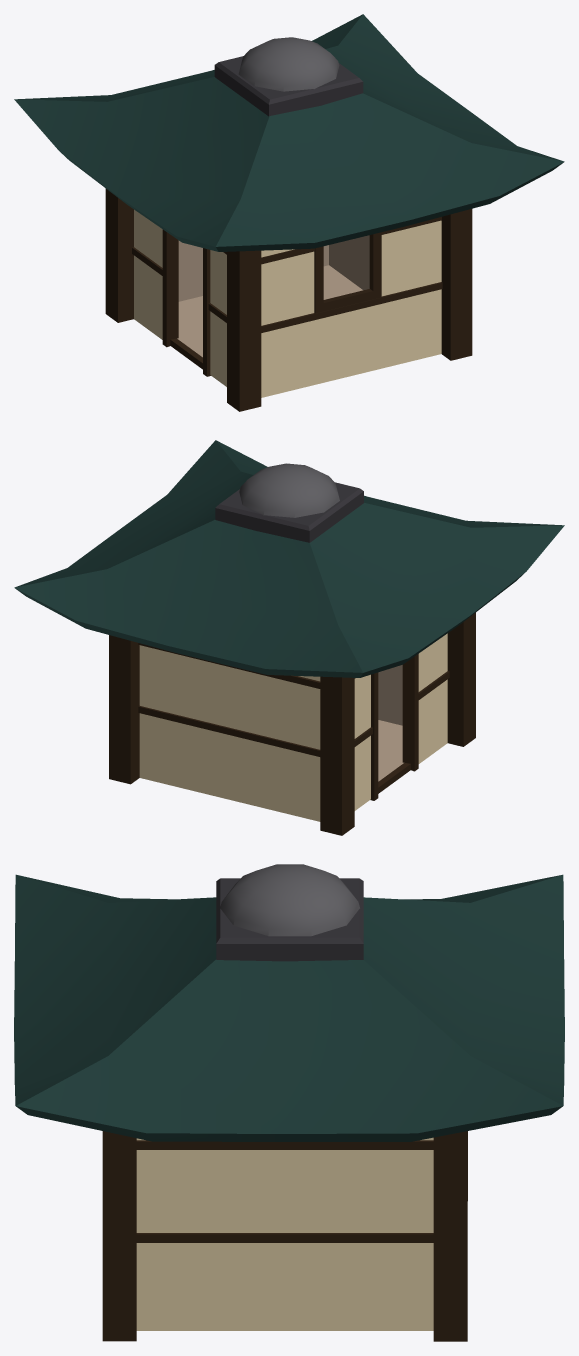
Rendered from houme04_2.fbx.
The picture shows the model from 3 angles, top to bottom: view 1: azimuth 30°, elevation 25°; view 2: azimuth 150°, elevation 25°; view 3: azimuth 270°, elevation 25°; orthographic projection. The views are drawn at different scales.
Visible parts, largest first — view 1: houme04_2; view 2: houme04_2; view 3: houme04_2.
Part boxes in pixels (bbox=[...]): houme04_2: bbox=[14, 14, 564, 411]; houme04_2: bbox=[14, 440, 564, 835]; houme04_2: bbox=[14, 864, 564, 1341].
Bounding box in the file's own units: 879 × 692 × 879.
